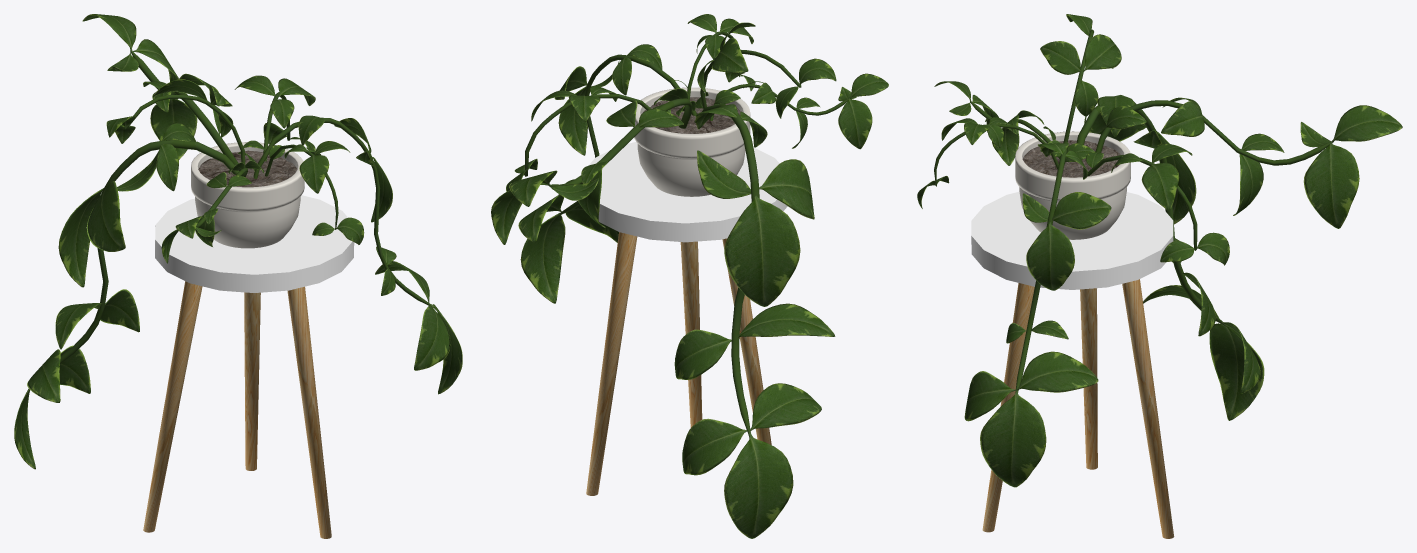
Rendered from potted_plant.glb.
The picture shows the model from 3 angles, left to right: view 1: azimuth 30°, elevation 25°; view 2: azimuth 150°, elevation 25°; view 3: azimuth 270°, elevation 25°; orthographic projection. The views are drawn at different scales.
Visible parts, largest first — view 1: Cylinder011_leaf_0, Cylinder016, Cylinder011_fl pot_0, Cylinder011_base for plant_0, Cylinder011_ear_0; view 2: Cylinder011_leaf_0, Cylinder016, Cylinder011_fl pot_0, Cylinder011_base for plant_0, Cylinder011_ear_0; view 3: Cylinder011_leaf_0, Cylinder016, Cylinder011_base for plant_0, Cylinder011_fl pot_0, Cylinder011_ear_0.
Boxes of the visible parts, x1=… form: Cylinder011_leaf_0: x1=14, y1=14, x2=462, y2=469; Cylinder016: x1=143, y1=195, x2=354, y2=538; Cylinder011_fl pot_0: x1=191, y1=142, x2=304, y2=248; Cylinder011_base for plant_0: x1=60, y1=51, x2=430, y2=363; Cylinder011_ear_0: x1=198, y1=150, x2=297, y2=187; Cylinder011_leaf_0: x1=491, y1=14, x2=888, y2=538; Cylinder016: x1=586, y1=142, x2=787, y2=495; Cylinder011_fl pot_0: x1=633, y1=87, x2=750, y2=196; Cylinder011_base for plant_0: x1=524, y1=31, x2=850, y2=434; Cylinder011_ear_0: x1=643, y1=97, x2=740, y2=133; Cylinder011_leaf_0: x1=917, y1=14, x2=1402, y2=487; Cylinder016: x1=971, y1=192, x2=1174, y2=538; Cylinder011_base for plant_0: x1=934, y1=29, x2=1332, y2=392; Cylinder011_fl pot_0: x1=1015, y1=131, x2=1130, y2=239; Cylinder011_ear_0: x1=1022, y1=140, x2=1120, y2=177.
Size of the model in its own units: 0.215 by 0.2605 by 0.2547.
6 materials, 6 textured.
